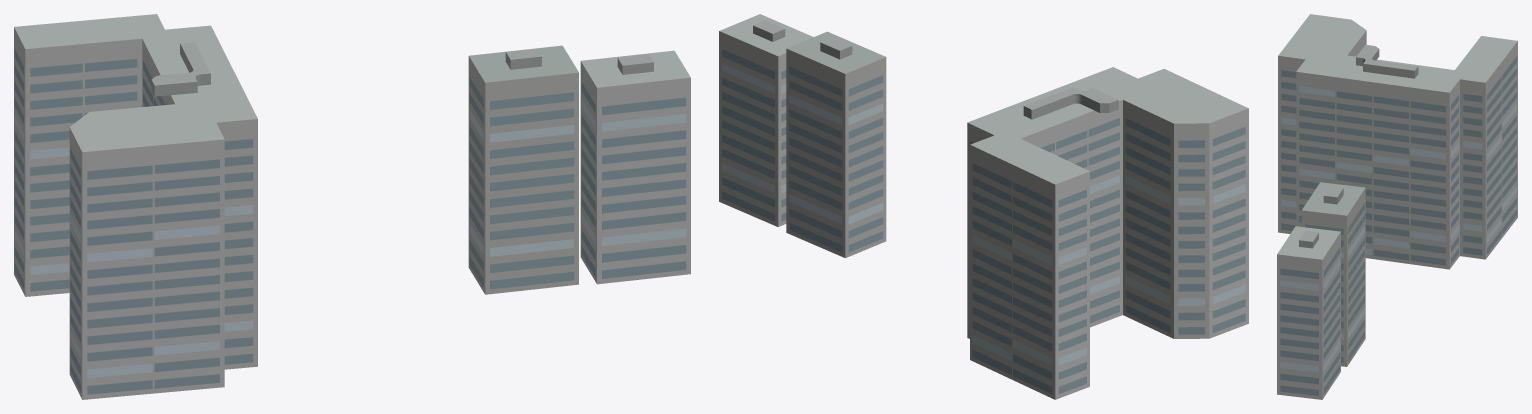
The model's file is apt-a13486102.glb.
3 views of the same model, side by side, from view 1: azimuth 30°, elevation 25°; view 2: azimuth 150°, elevation 25°; view 3: azimuth 270°, elevation 25° (orthographic). The views are drawn at different scales.
Parts seen in each view (by area): view 1: apt-a13486102; view 2: apt-a13486102; view 3: apt-a13486102.
Boxes of the visible parts, x1=… form: apt-a13486102: x1=14, y1=14, x2=690, y2=399; apt-a13486102: x1=719, y1=14, x2=1248, y2=399; apt-a13486102: x1=1277, y1=14, x2=1517, y2=399.
Bounding box in the file's own units: 116 × 47.81 × 56.49.
